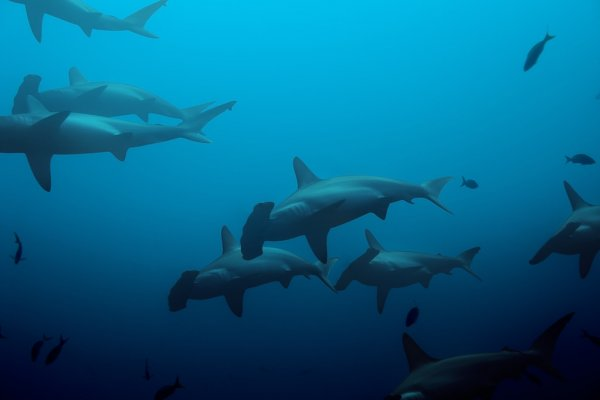Hammer: (60, 81, 458, 355), (223, 152, 465, 278), (1, 48, 234, 159), (157, 201, 328, 315), (336, 224, 505, 316)
